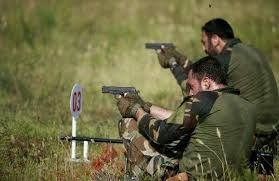gun: (98, 79, 145, 109), (139, 35, 179, 68)
uniform: (129, 52, 254, 176), (201, 16, 279, 163)
